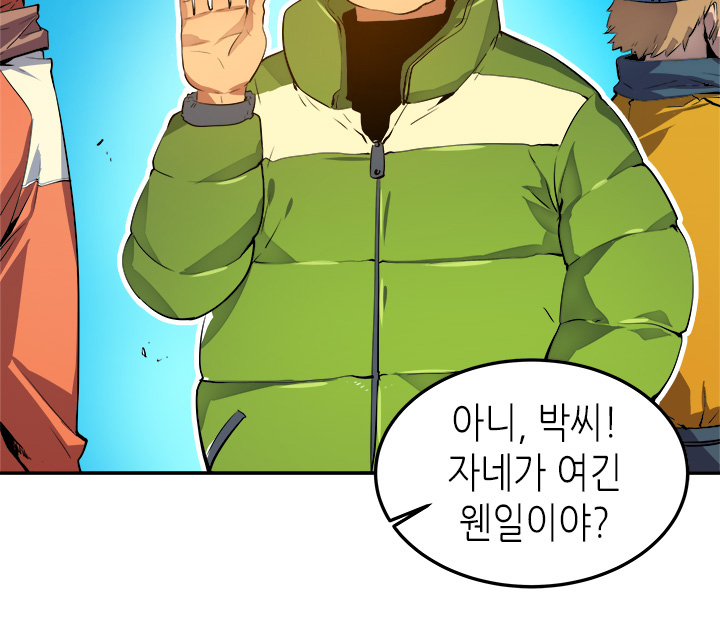dialog box: (349, 341, 717, 611)
text: (429, 381, 649, 570)
